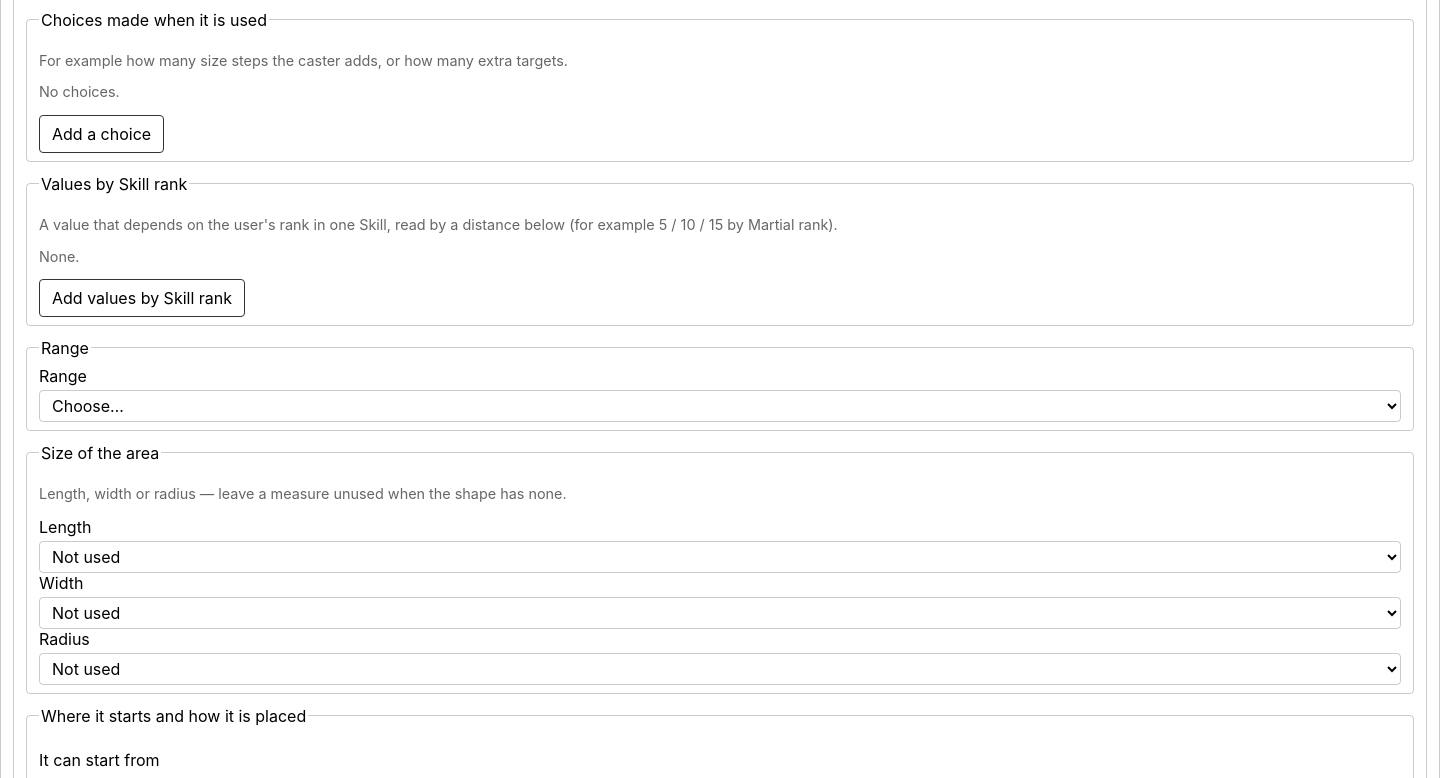
Scenario: RULES-WO1 Phase G — Spell Targeting in game language › a Maneuver Targeting has no cost of its own; a size distance offers the component's own size choices to the Formula
The image size is (1440, 778).
(page scrolled)
Select "A stated distance" in the dropdown with test id "targeting-range-model" at (720, 406), box [39,390,1401,422]
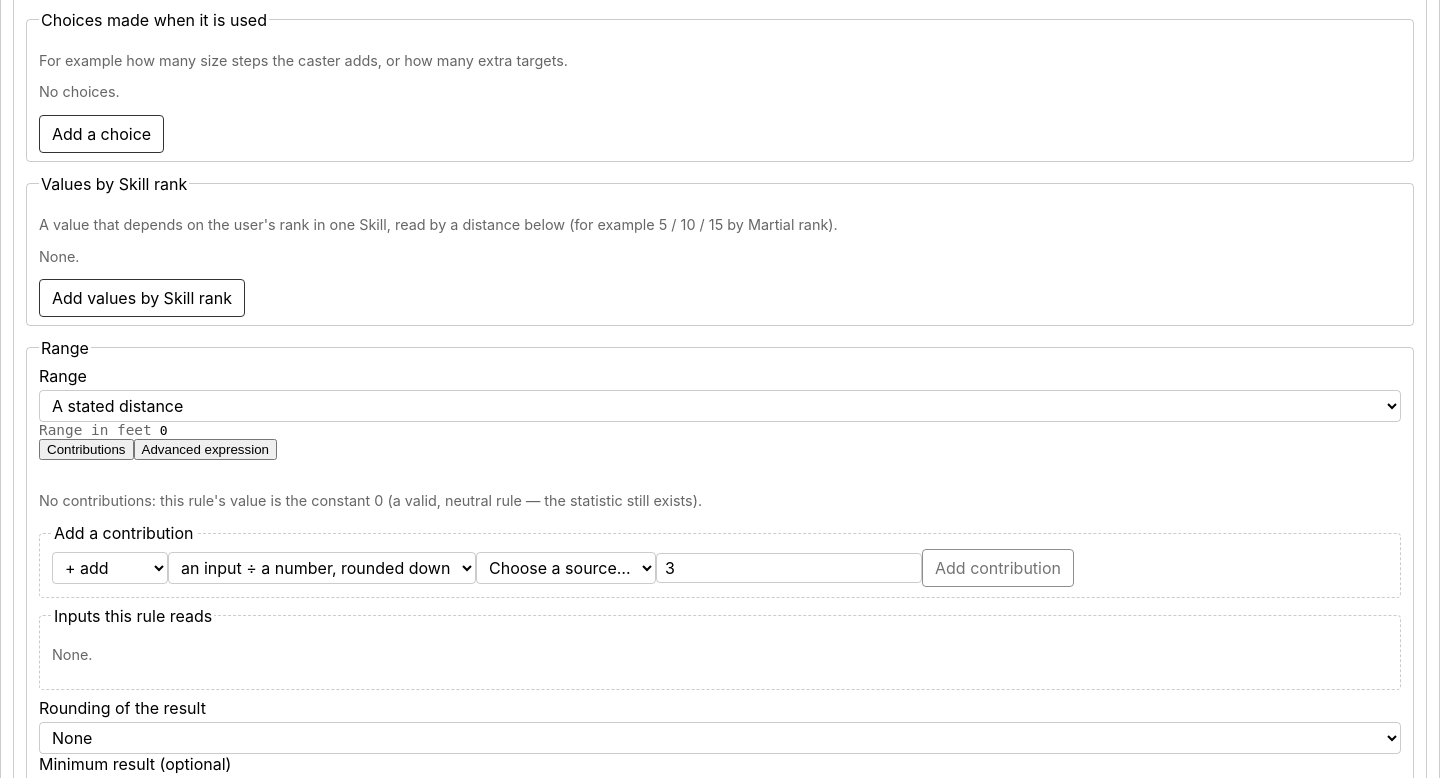
Result: the text "Range in feet" is shown at [39,422,152,438]
